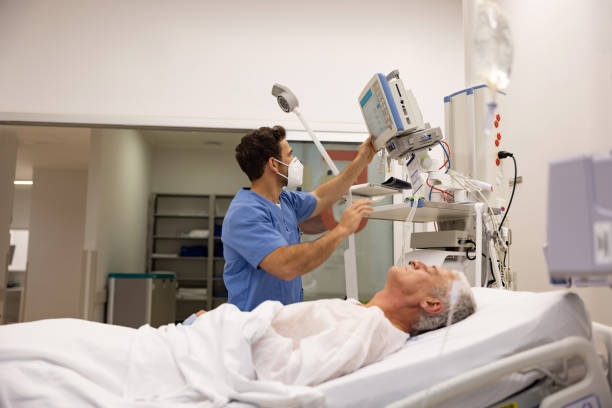bedrail: (382, 337, 612, 408)
bedside_monitor: (356, 71, 406, 153)
cabinet: (145, 194, 236, 308)
hospital_bed: (1, 286, 612, 408)
medical_drawer: (106, 273, 178, 331)
patient: (1, 258, 474, 408)
staff: (221, 125, 376, 314)
